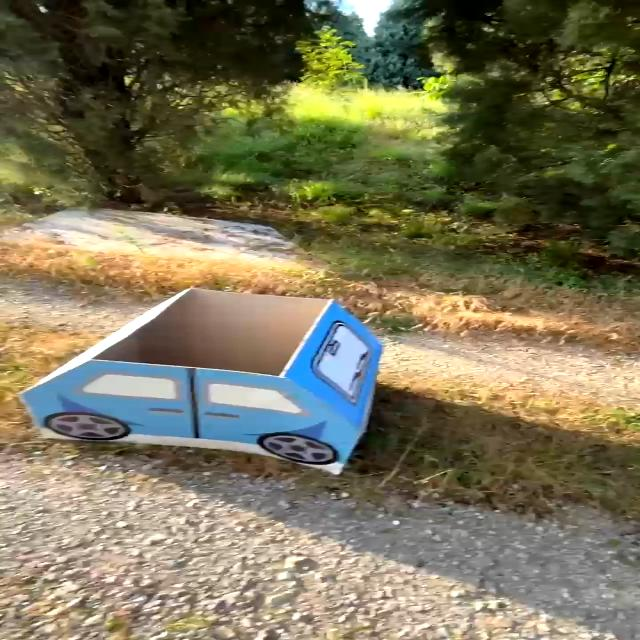blue_car: (0, 270, 455, 490)
